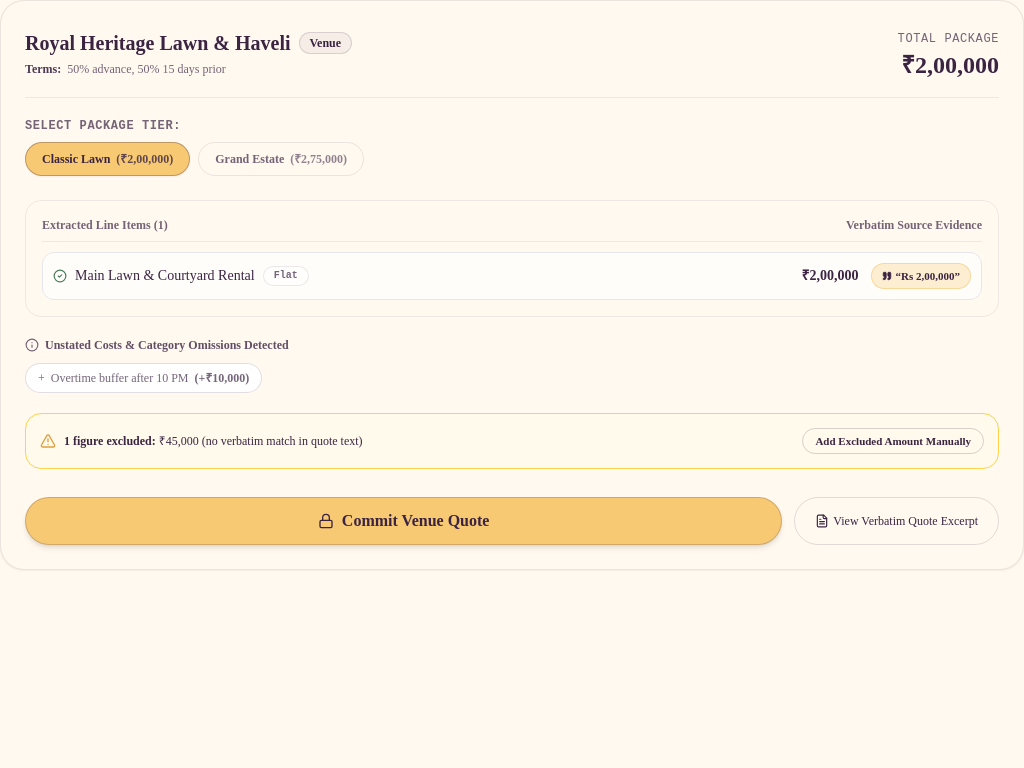
Scenario: QuoteCheckCard Component (QUOTE-05, QUOTE-06, D-07, D-08, D-09, D-10) › toggling omission adder chips updates tier total in real time
// Toggle overtime adder chip (+₹10,000)
Click the text "Overtime buffer after 10 PM" at (120, 378), box left=51, top=370, right=189, bottom=386
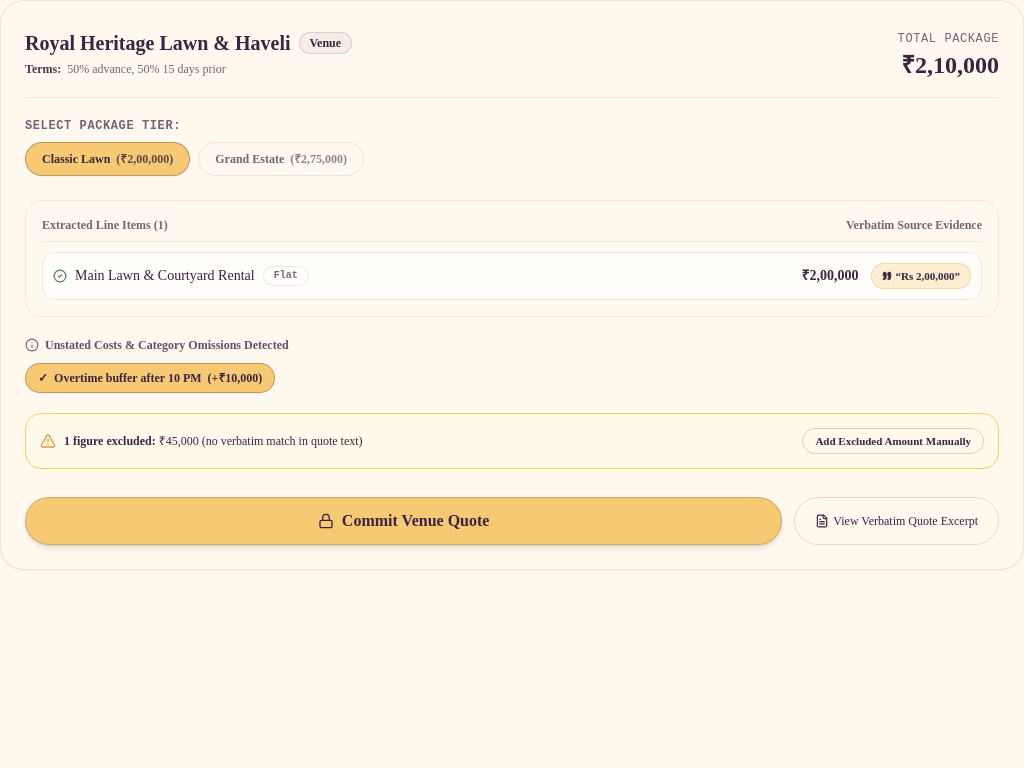
Now the text "₹2,10,000" is shown, box left=898, top=49, right=999, bottom=81
